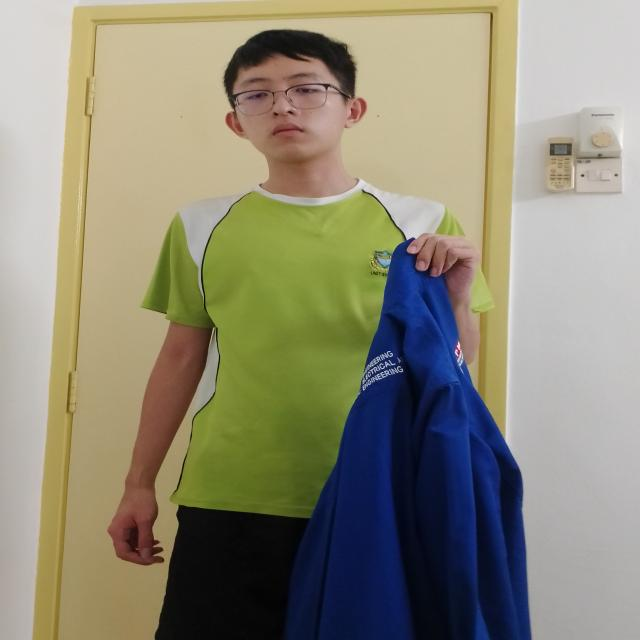person_without_labcoat: (109, 30, 530, 640)
